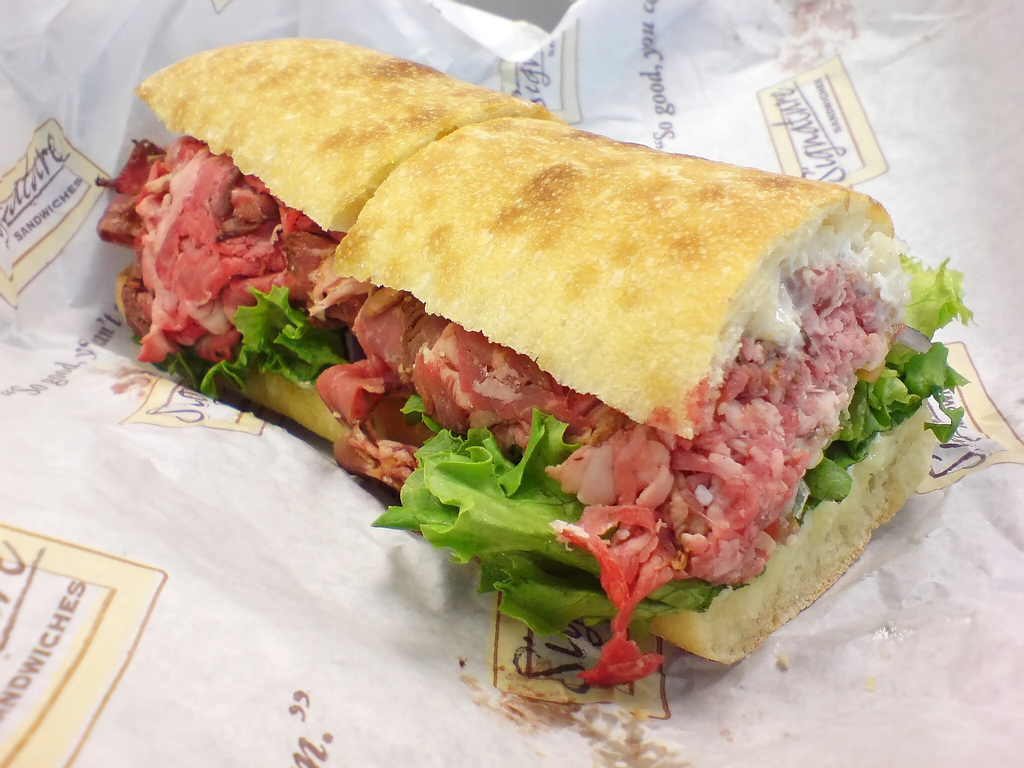chopped lettuce: (390, 418, 588, 601)
slice of bread: (346, 105, 890, 409), (155, 30, 569, 225)
